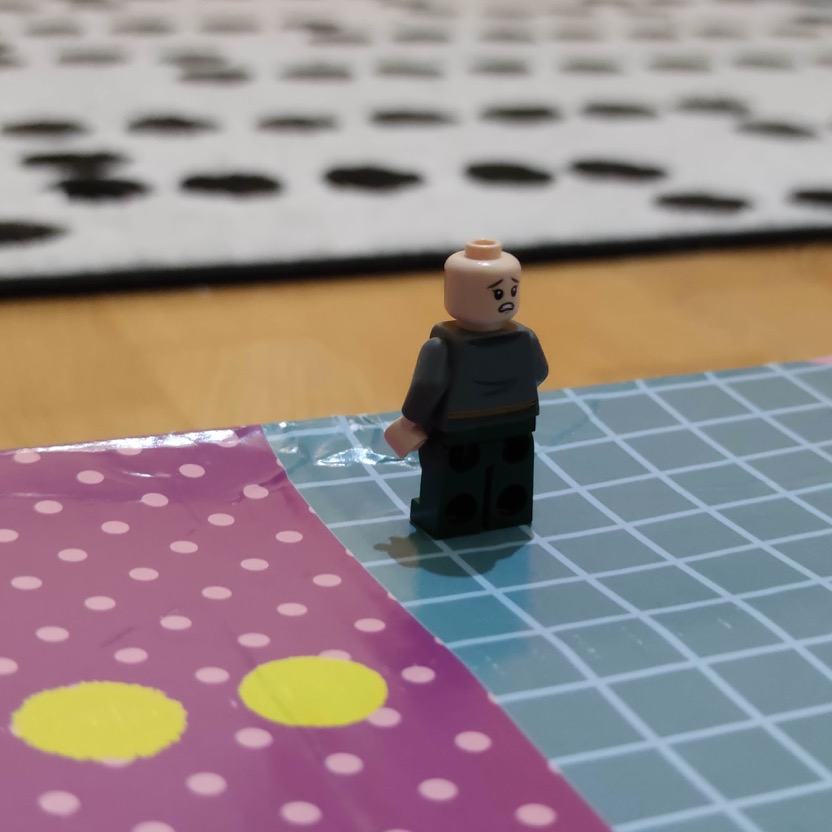lego: (387, 239, 550, 542)
